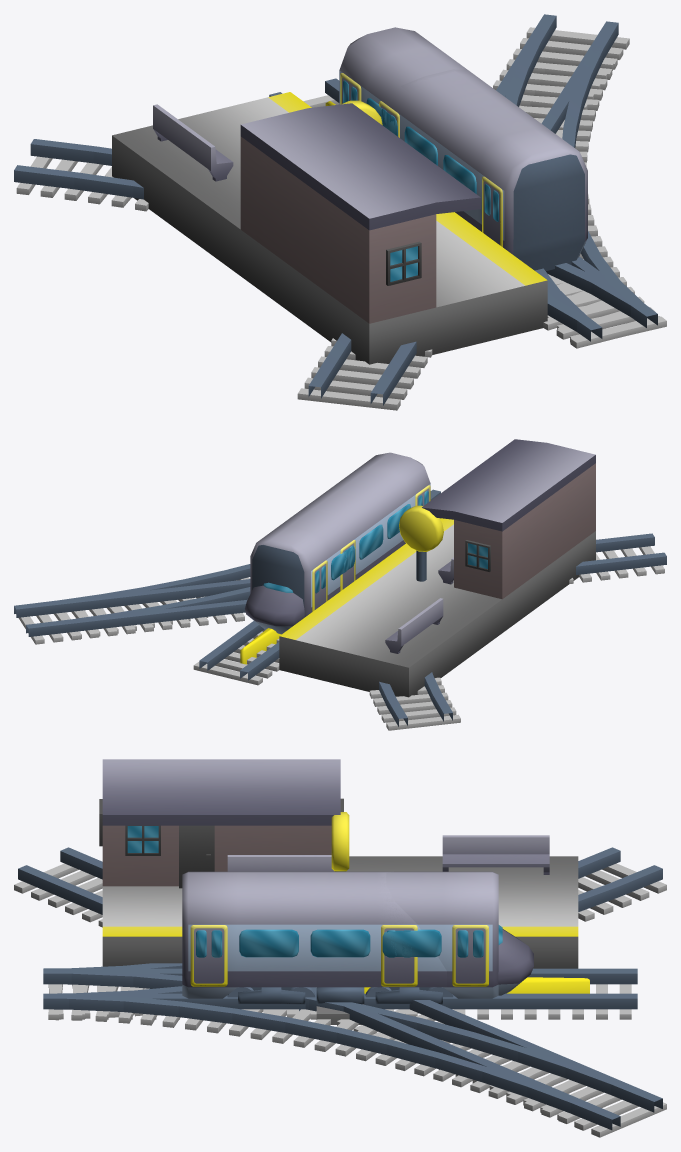
The model's file is TrainGameModels (4).fbx.
3 views of the same model, one above another, from view 1: azimuth 30°, elevation 25°; view 2: azimuth 150°, elevation 25°; view 3: azimuth 270°, elevation 25° (orthographic). The views are drawn at different scales.
Parts seen in each view (by area): view 1: Station, Carriage, CurveTrackR, DiagonalTrack, CurveTrackL, Locomotive, StraightTrack; view 2: Station, Carriage, DiagonalTrack, Locomotive, CurveTrackR, CurveTrackL, StraightTrack, SwitchLever, SwitchIndicator; view 3: Station, Carriage, CurveTrackR, Locomotive, DiagonalTrack, StraightTrack, CurveTrackL, SwitchIndicator, SwitchLever.
Boxes of the visible parts, left/top/right/bottom form: Station: left=112, top=92, right=547, bottom=364; Carriage: left=339, top=27, right=587, bottom=270; CurveTrackR: left=503, top=14, right=666, bottom=341; DiagonalTrack: left=297, top=14, right=627, bottom=410; CurveTrackL: left=14, top=139, right=664, bottom=348; Locomotive: left=379, top=69, right=507, bottom=244; StraightTrack: left=269, top=78, right=665, bottom=343; Station: left=279, top=439, right=595, bottom=697; Carriage: left=250, top=452, right=430, bottom=617; DiagonalTrack: left=14, top=533, right=666, bottom=644; Locomotive: left=245, top=453, right=430, bottom=634; CurveTrackR: left=14, top=490, right=439, bottom=640; CurveTrackL: left=369, top=489, right=460, bottom=730; StraightTrack: left=193, top=493, right=437, bottom=685; SwitchLever: left=399, top=505, right=443, bottom=581; SwitchIndicator: left=240, top=628, right=281, bottom=664; Station: left=99, top=759, right=578, bottom=968; Carriage: left=182, top=871, right=498, bottom=1010; CurveTrackR: left=43, top=968, right=666, bottom=1137; Locomotive: left=189, top=871, right=533, bottom=1004; DiagonalTrack: left=14, top=847, right=666, bottom=1133; StraightTrack: left=43, top=968, right=637, bottom=1019; CurveTrackL: left=43, top=847, right=666, bottom=1019; SwitchIndicator: left=364, top=977, right=589, bottom=993; SwitchLever: left=331, top=812, right=349, bottom=871.
Bounding box in the file's own units: 550 × 130 × 549.
